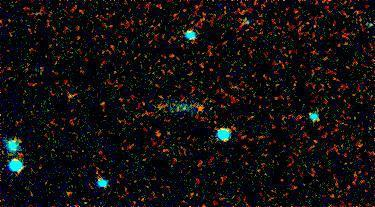star: (187, 94, 217, 124)
